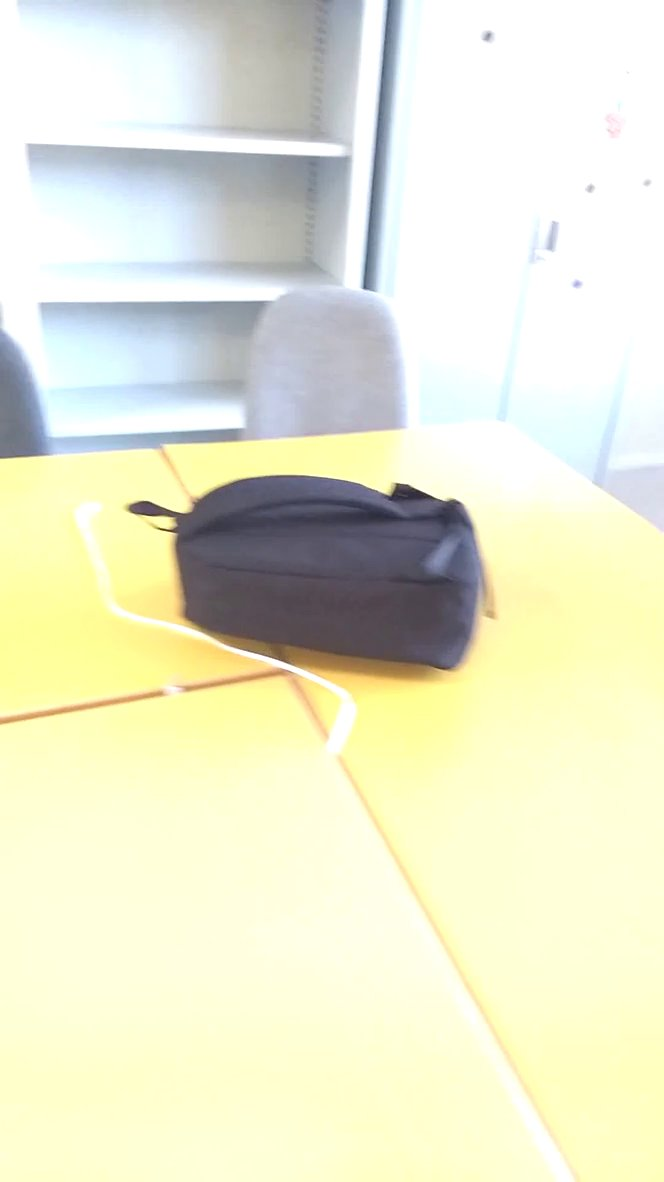bag: (122, 463, 505, 690)
chair: (234, 278, 426, 442)
